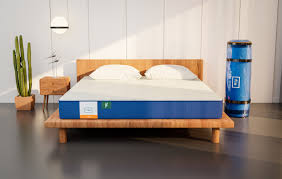bed-matress: (57, 74, 223, 120)
